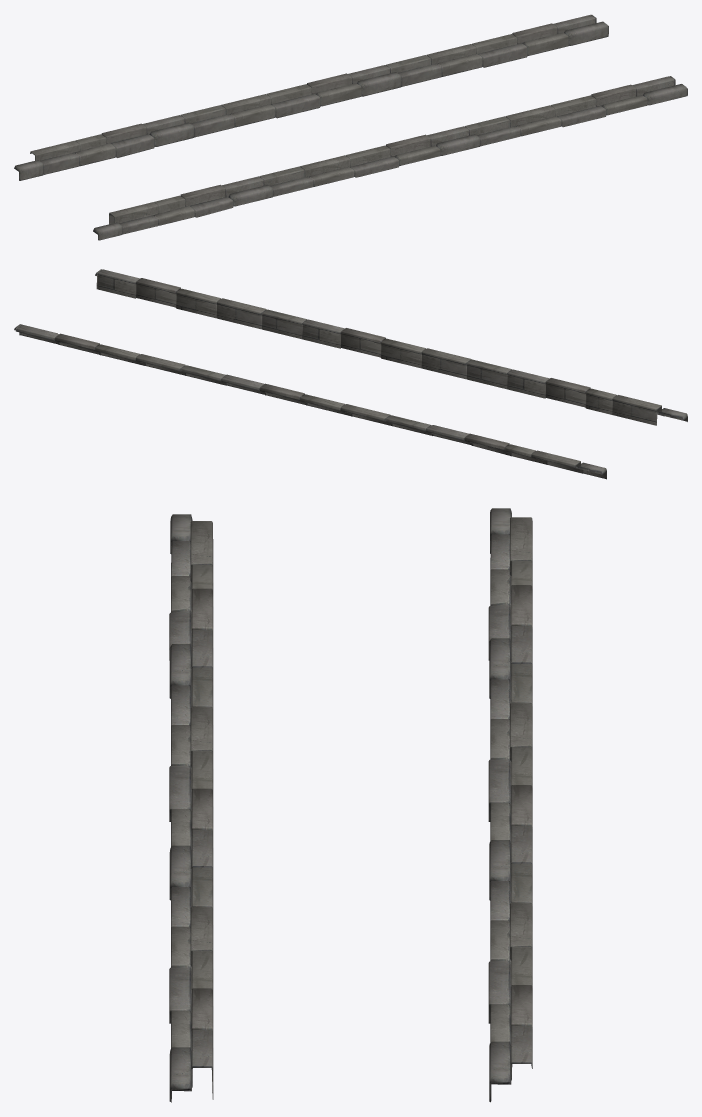
Rendered from SM_ENV_LKNVLD_Ground_Hill_Right_WaterTrim.FBX.
3 renders of one model, top to bottom at view 1: azimuth 30°, elevation 25°; view 2: azimuth 150°, elevation 25°; view 3: azimuth 270°, elevation 25°, orthographic. The views are drawn at different scales.
Visible parts, largest first — view 1: SM_ENV_LKNVLD_Ground_Hill_Right_WaterTrim; view 2: SM_ENV_LKNVLD_Ground_Hill_Right_WaterTrim; view 3: SM_ENV_LKNVLD_Ground_Hill_Right_WaterTrim.
Part boxes in pixels (x1,y1,x2,y2): SM_ENV_LKNVLD_Ground_Hill_Right_WaterTrim: (14,14,687,240); SM_ENV_LKNVLD_Ground_Hill_Right_WaterTrim: (14,269,687,479); SM_ENV_LKNVLD_Ground_Hill_Right_WaterTrim: (169,508,532,1102).
Size of the model in its own units: 2921 by 93.71 by 780.
